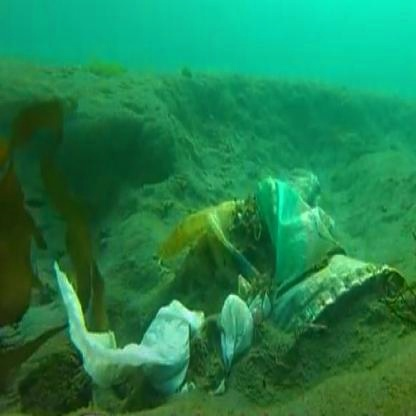plastic: (40, 268, 214, 394), (239, 163, 336, 307)
